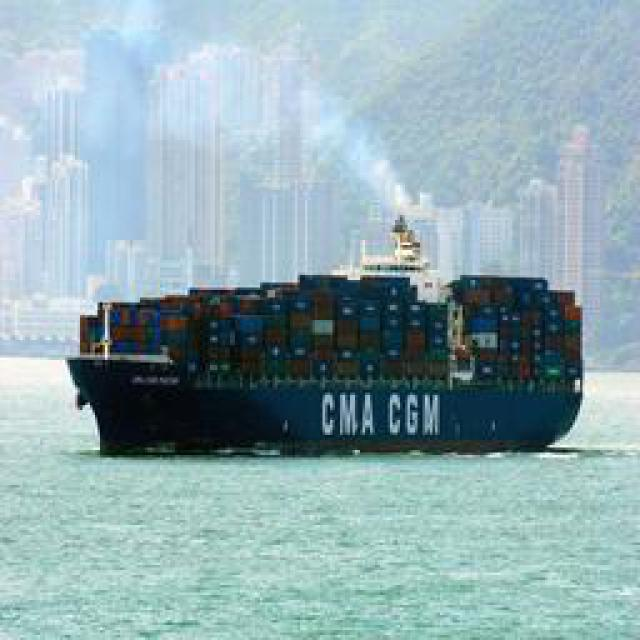Ship: (60, 249, 592, 450)
